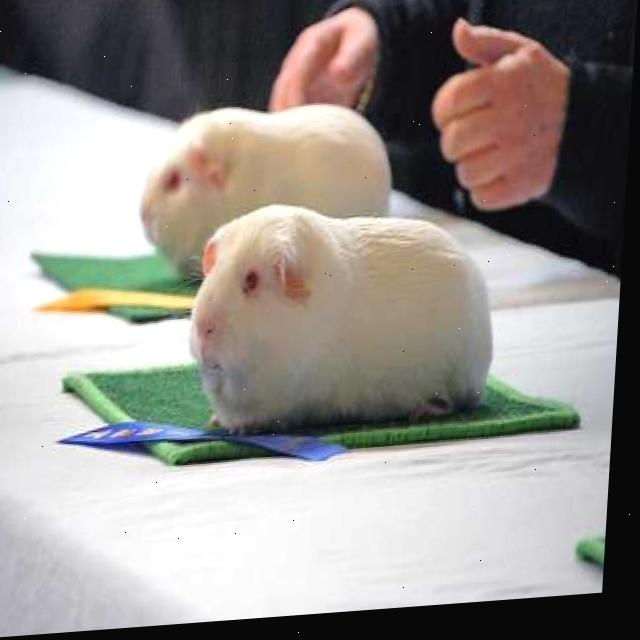guinea pig: (189, 206, 505, 446), (139, 97, 402, 249)
